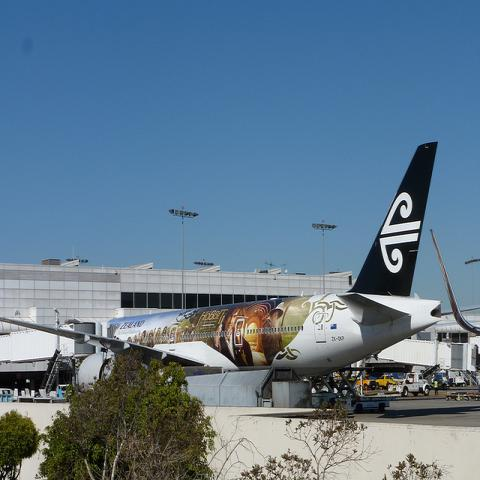truck: (388, 372, 432, 397), (376, 375, 398, 390), (356, 374, 376, 390)
